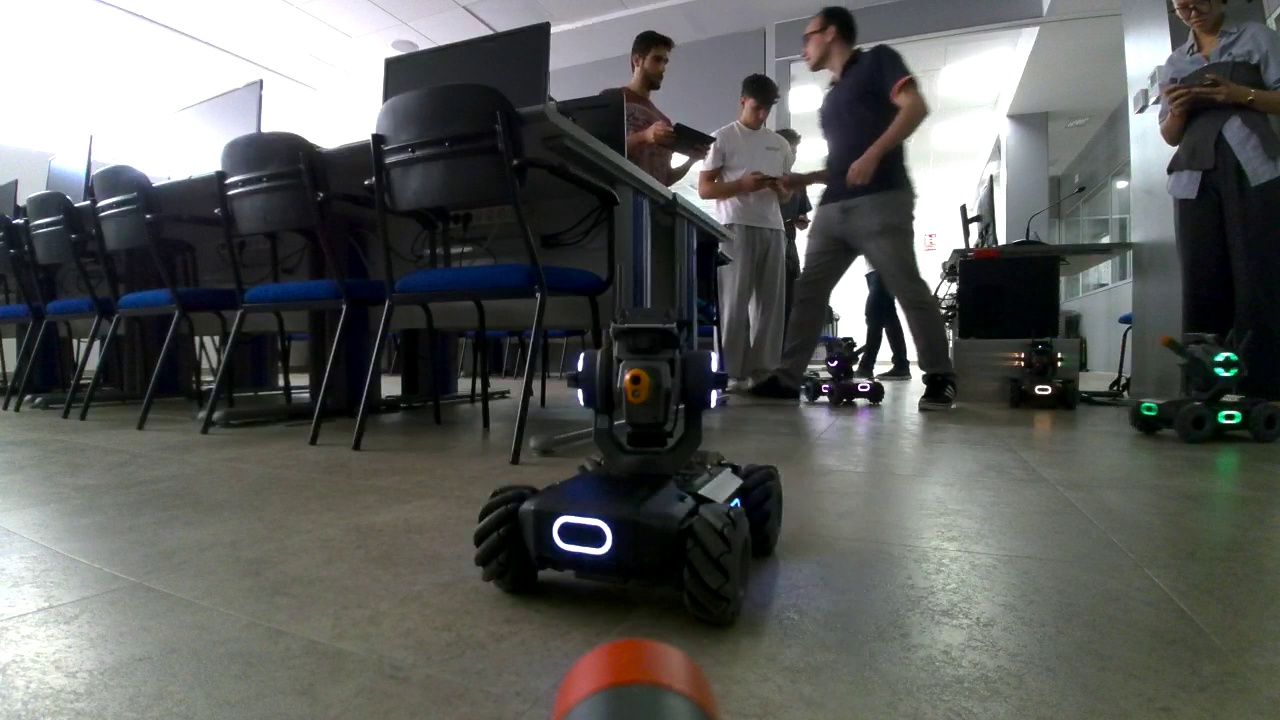robot: (474, 263, 787, 628), (1129, 324, 1280, 443), (800, 334, 889, 406), (1008, 336, 1081, 411)
